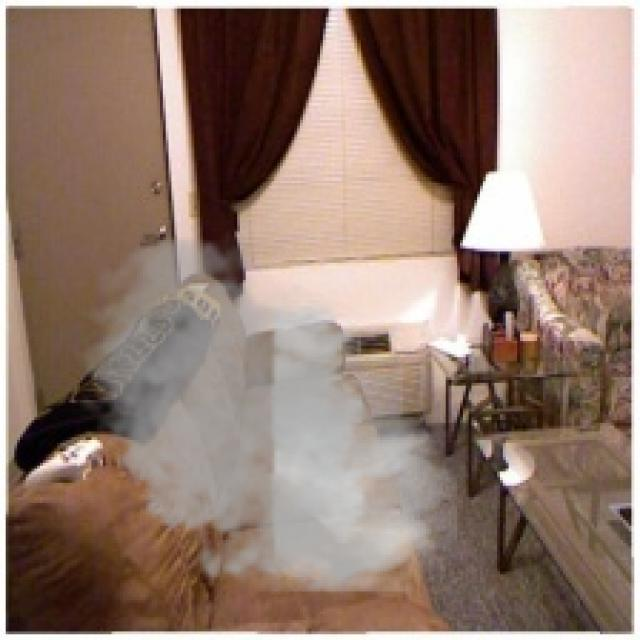Smoke: (69, 228, 458, 606)
